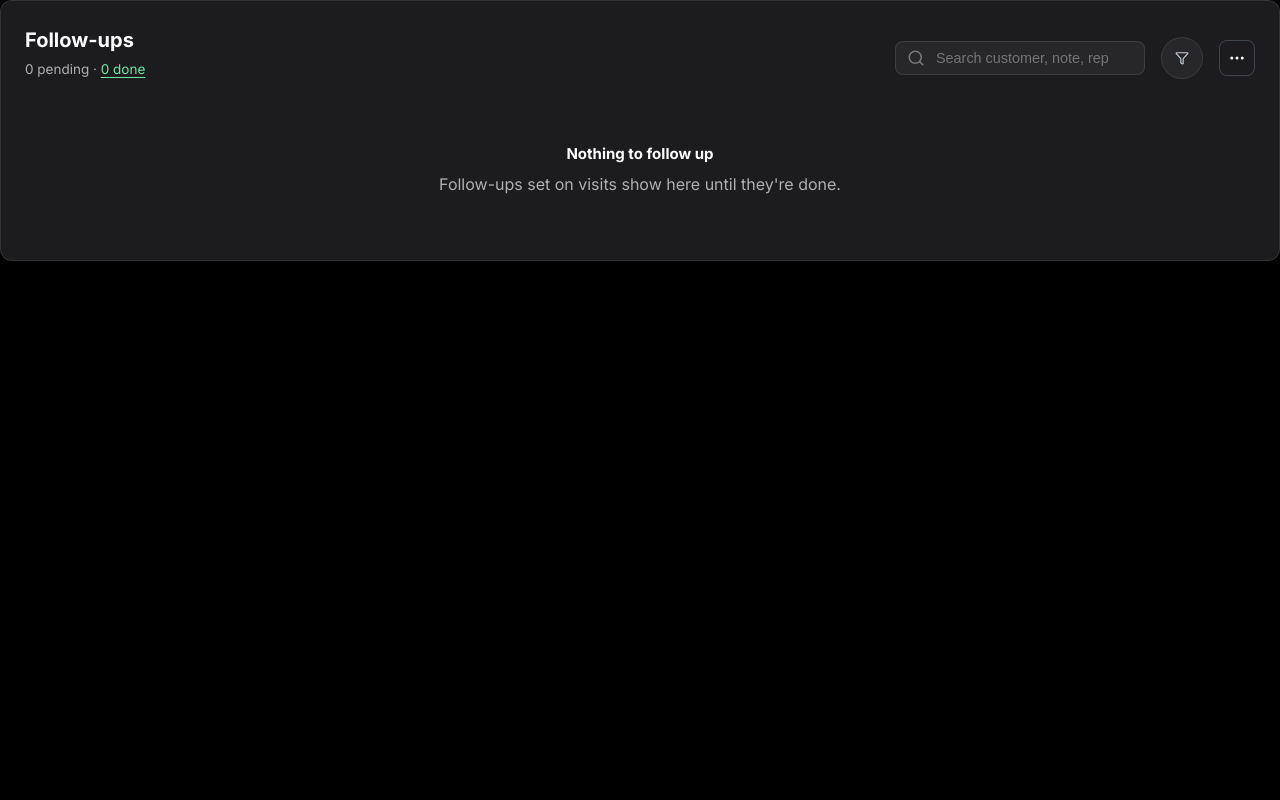
Follow-ups tab › Status: Done asks the server for done ones and shows a tag to take it off
Expected: the text "Nothing to follow up" is shown, [566, 143, 714, 166]
Click the button named "Filters". click: (1182, 58)
box: [1161, 37, 1203, 79]
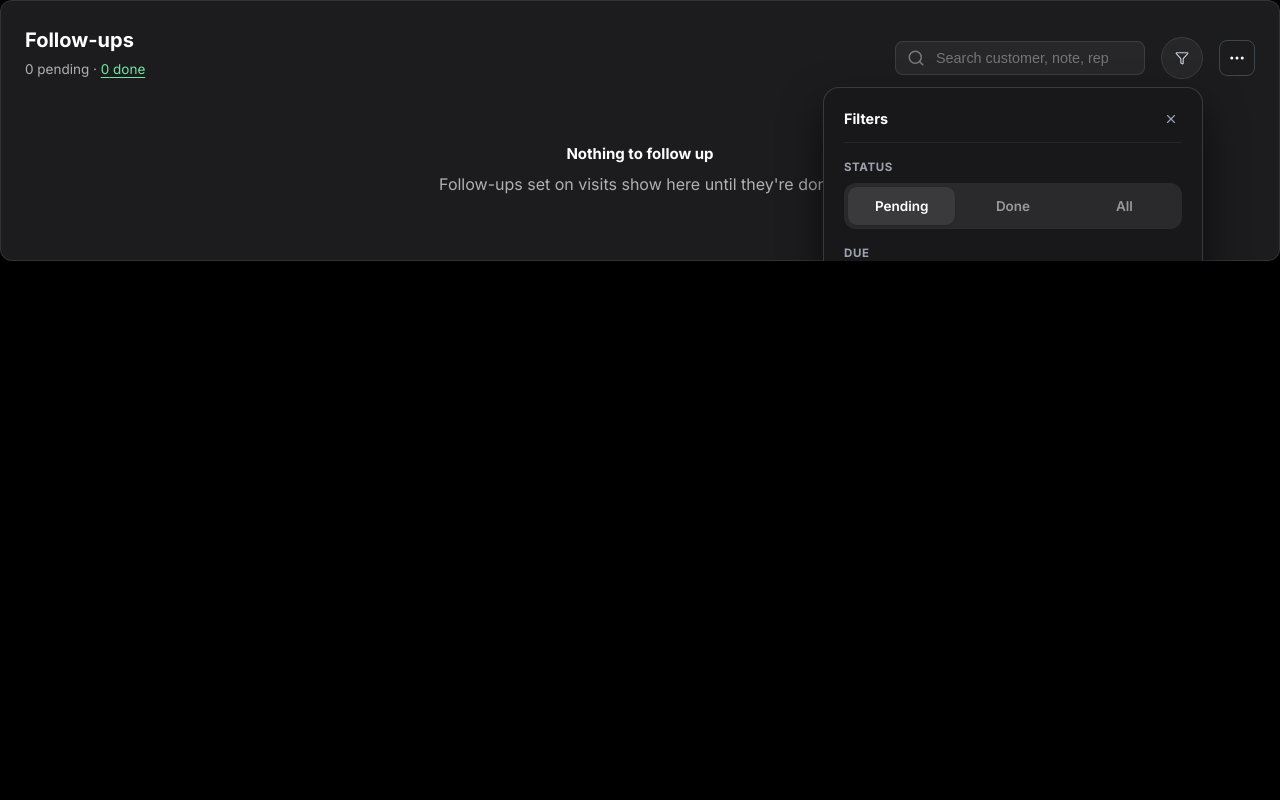
Click the radio button labelled "Done". click: (1013, 206)
box: [959, 187, 1067, 225]
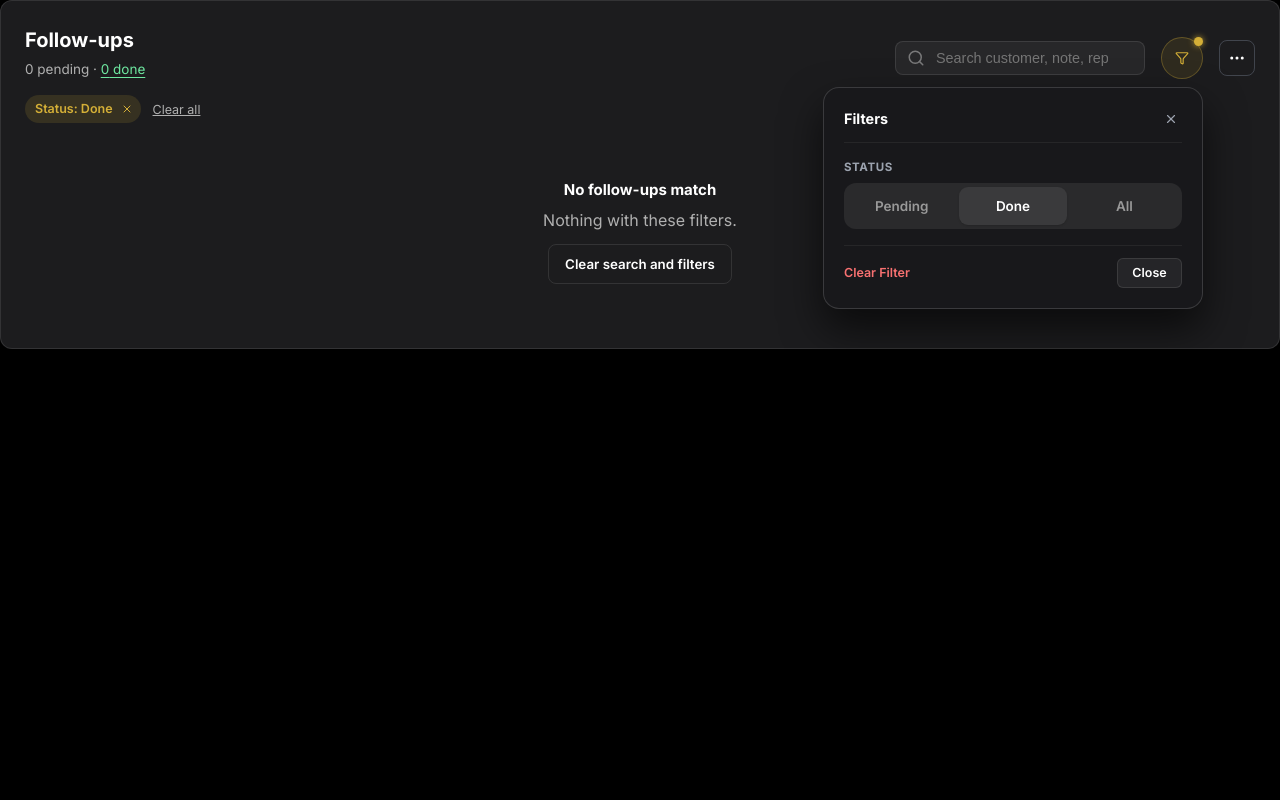
Now the text "Status: Done" is shown, box [25, 95, 140, 123]
